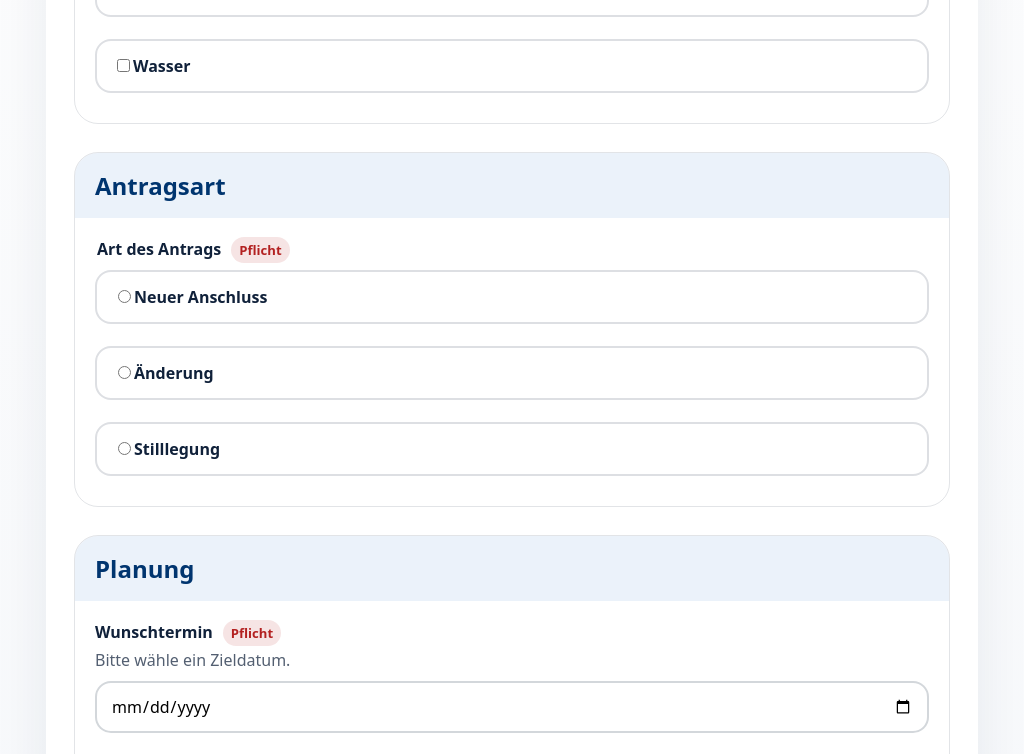
Scenario: AntragsdetailsWizard › renders schema-driven fields and reveals changeKind only for change_connection
(page scrolled)
Check: the element "Art des Antrags" is shown, box [95,238,929,486]
Check: the field labelled "Art der Veränderung" is not shown
Click the radio button labelled "Änderung" at (124, 372), box [118,366,131,379]
(page scrolled)
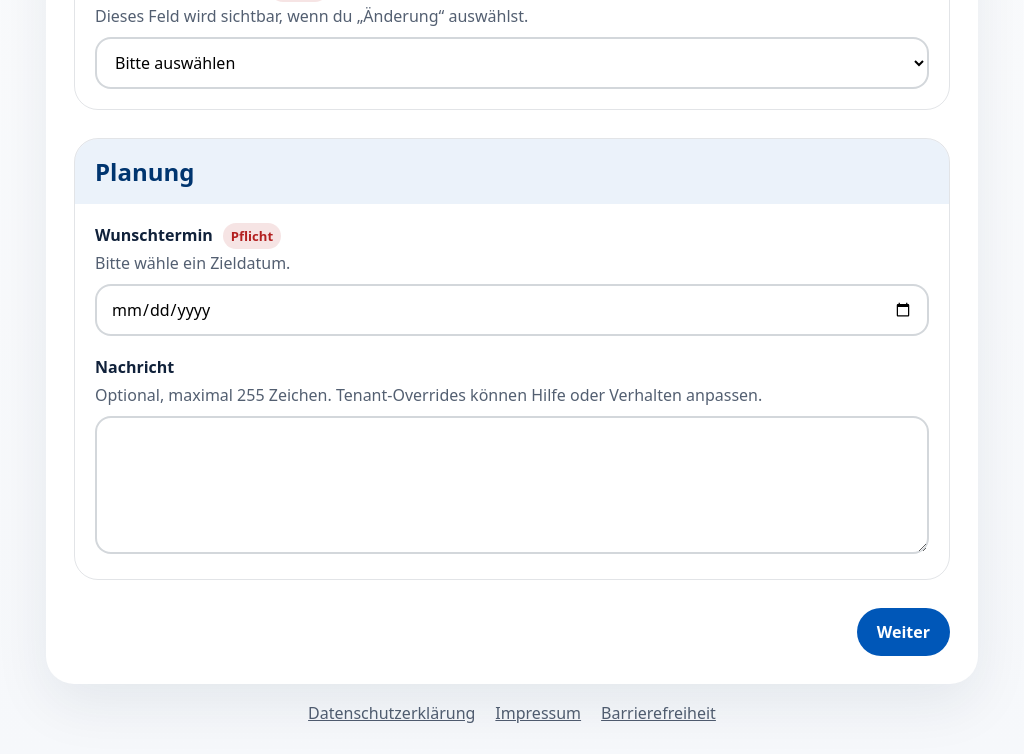
Check: the date field labelled "Wunschtermin" is shown, box [95,284,929,336]
Check: the dropdown labelled "Art der Veränderung" is shown, box [95,37,929,89]
